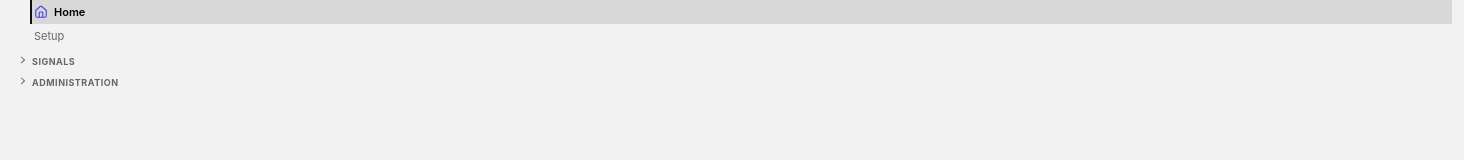
TreeNav › expands parent when toggle is clicked
Click the 1st button named "Expand" at (21, 58), box [13, 50, 29, 66]
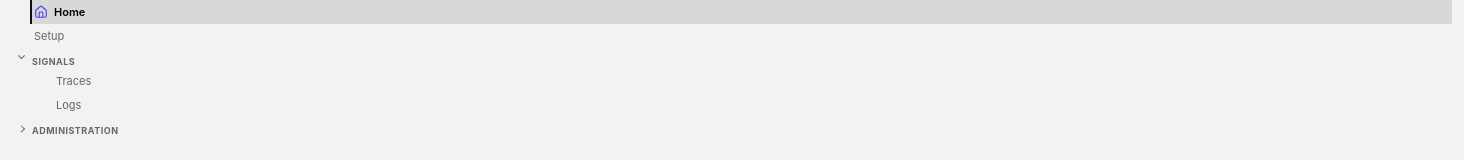
Check: the link "Traces" is shown, box [56, 74, 91, 88]
Check: the link "Logs" is shown, box [56, 98, 81, 112]
